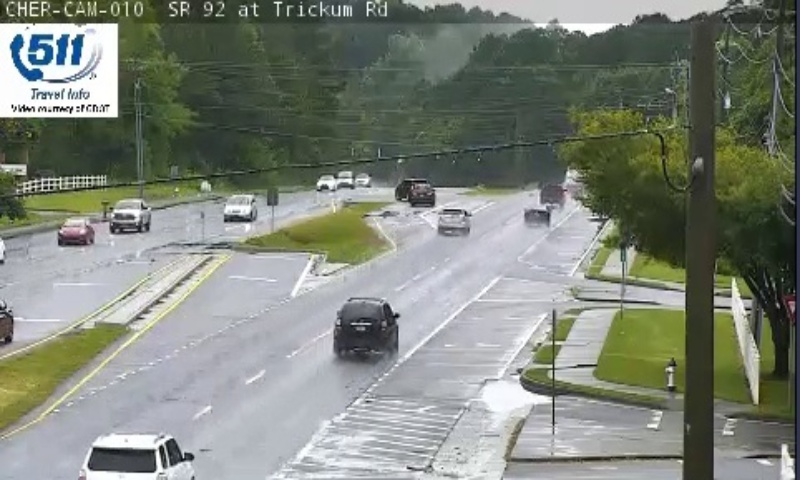car: (78, 433, 195, 480), (335, 301, 398, 351), (438, 207, 469, 232), (522, 203, 551, 227)
